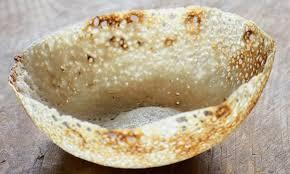Hoppers: (15, 3, 278, 168)
